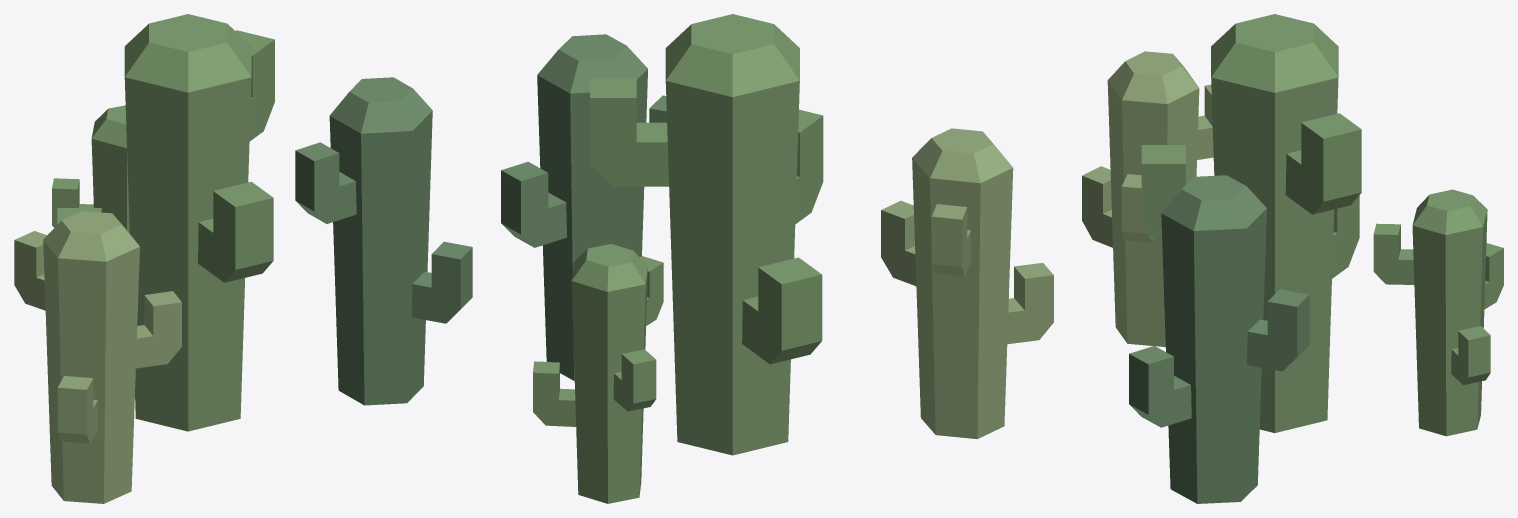
File: veg_desert_cactus_patch.glb
3 renders of one model, left to right at view 1: azimuth 30°, elevation 25°; view 2: azimuth 150°, elevation 25°; view 3: azimuth 270°, elevation 25°, orthographic. The views are drawn at different scales.
Visible parts, largest first — view 1: clump_0, clump_2, clump_1, clump_3; view 2: clump_0, clump_1, clump_2, clump_3; view 3: clump_0, clump_2, clump_3, clump_1.
Boxes of the visible parts, <box> form: clump_0: <box>57,14,274,431</box>; clump_2: <box>295,77,472,405</box>; clump_1: <box>14,211,181,503</box>; clump_3: <box>52,105,129,232</box>; clump_0: <box>590,14,823,455</box>; clump_1: <box>881,128,1053,439</box>; clump_2: <box>501,34,666,380</box>; clump_3: <box>533,244,663,503</box>; clump_0: <box>1141,14,1361,432</box>; clump_2: <box>1129,175,1309,503</box>; clump_3: <box>1373,189,1503,436</box>; clump_1: <box>1082,51,1213,346</box>.
Size of the model in its own units: 0.7547 by 0.6129 by 0.6261.
